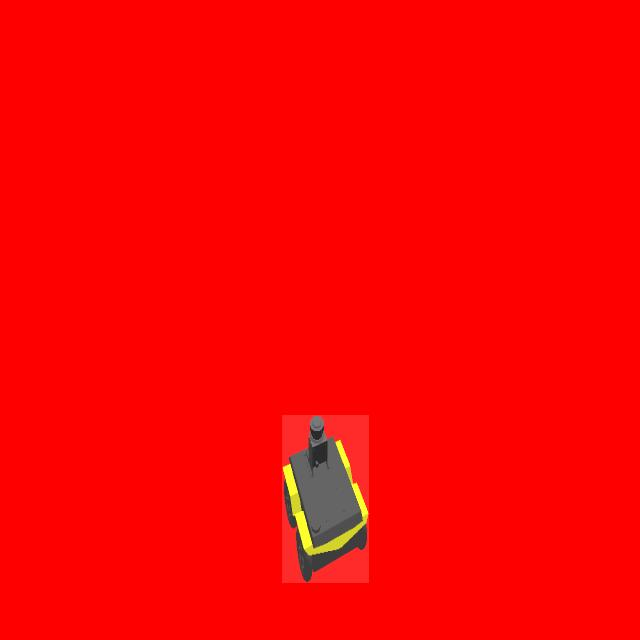jackal: (282, 416, 369, 584)
